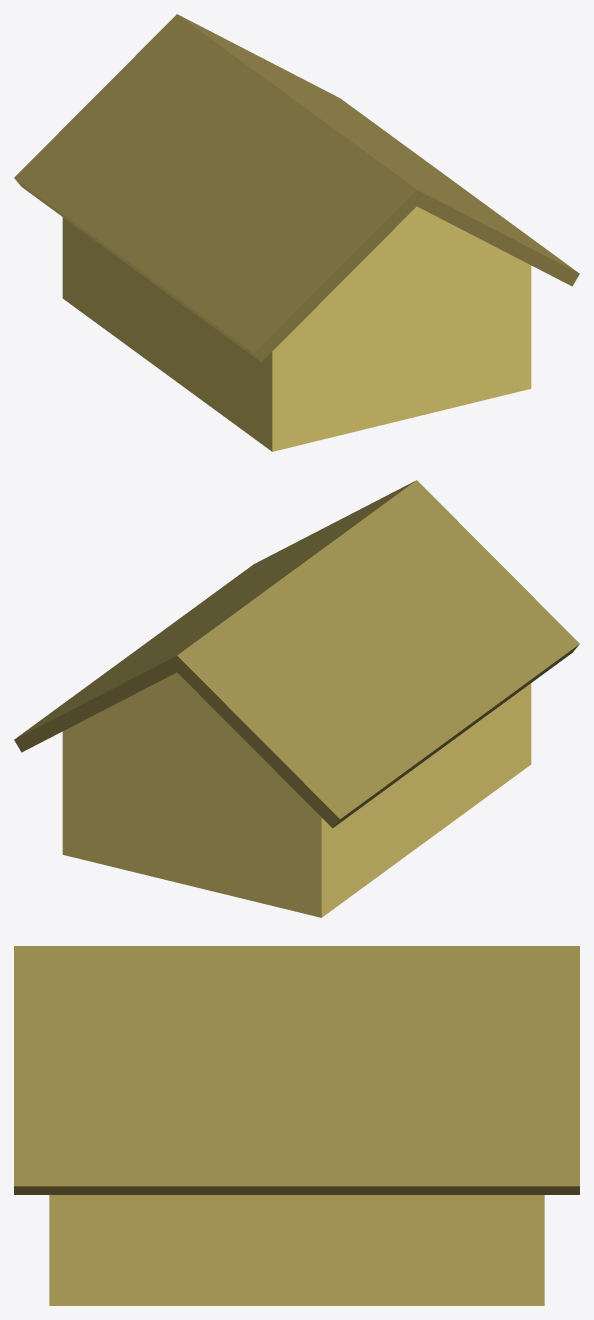
Rendered from result.glb.
3 renders of one model, top to bottom at view 1: azimuth 30°, elevation 25°; view 2: azimuth 150°, elevation 25°; view 3: azimuth 270°, elevation 25°, orthographic. The views are drawn at different scales.
Visible parts, largest first — view 1: c942f5b9-a365-4583-a78f-44409968c284__undefined (×2), 2e24ed0d-1efd-456d-824b-f9702907c2c3__undefined; view 2: c942f5b9-a365-4583-a78f-44409968c284__undefined (×2), 2e24ed0d-1efd-456d-824b-f9702907c2c3__undefined; view 3: c942f5b9-a365-4583-a78f-44409968c284__undefined, 2e24ed0d-1efd-456d-824b-f9702907c2c3__undefined.
Boxes of the visible parts, left/top/right/bottom form: c942f5b9-a365-4583-a78f-44409968c284__undefined (×2): left=14, top=14, right=579, bottom=362; 2e24ed0d-1efd-456d-824b-f9702907c2c3__undefined: left=62, top=206, right=531, bottom=451; c942f5b9-a365-4583-a78f-44409968c284__undefined (×2): left=14, top=480, right=579, bottom=828; 2e24ed0d-1efd-456d-824b-f9702907c2c3__undefined: left=62, top=672, right=531, bottom=917; c942f5b9-a365-4583-a78f-44409968c284__undefined: left=14, top=946, right=579, bottom=1194; 2e24ed0d-1efd-456d-824b-f9702907c2c3__undefined: left=49, top=1195, right=544, bottom=1305.
Bounding box in the file's own units: 628 × 445 × 800.
